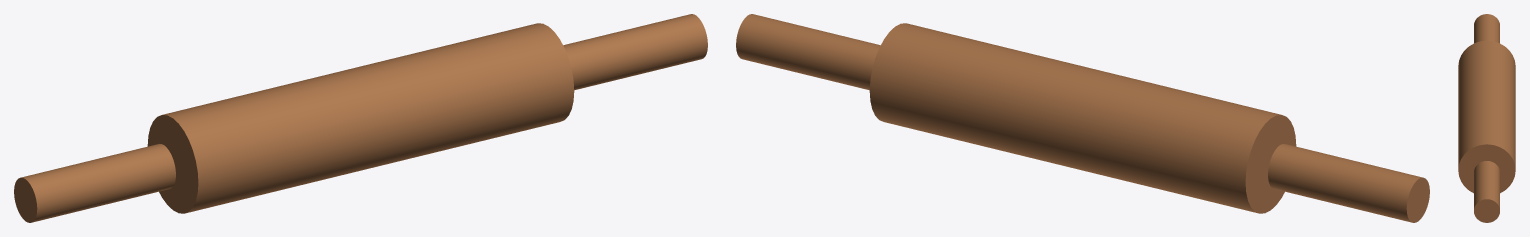
Rendered from wp-rouleau-a-patisserie.glb.
3 renders of one model, left to right at view 1: azimuth 30°, elevation 25°; view 2: azimuth 150°, elevation 25°; view 3: azimuth 270°, elevation 25°, orthographic. The views are drawn at different scales.
Visible parts, largest first — view 1: wp-rouleau-a-patisserie; view 2: wp-rouleau-a-patisserie; view 3: wp-rouleau-a-patisserie.
Part boxes in pixels (x1,y1,x2,y2): wp-rouleau-a-patisserie: (14, 14, 707, 222); wp-rouleau-a-patisserie: (736, 14, 1429, 222); wp-rouleau-a-patisserie: (1458, 14, 1515, 222).
Size of the model in its own units: 0.42 by 0.055 by 0.055.
